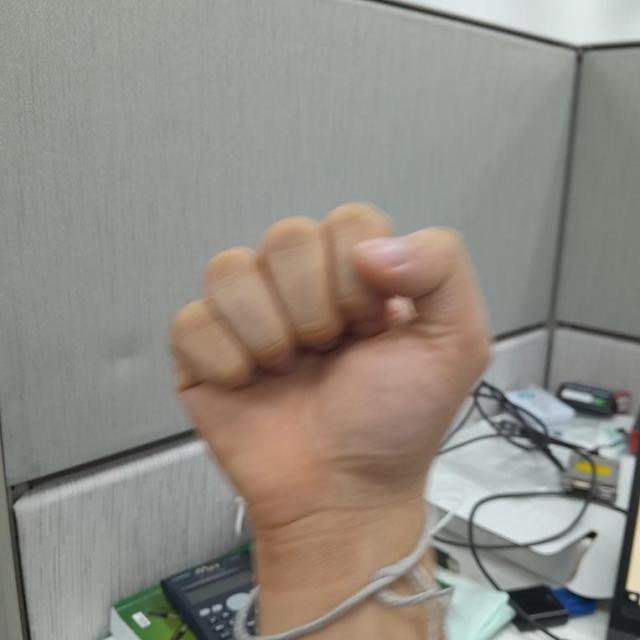fist: (169, 198, 494, 518)
